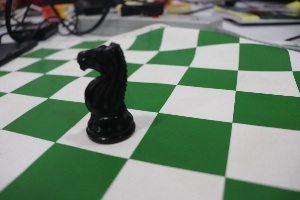black_horse: (74, 33, 138, 153)
